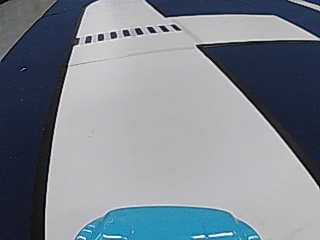CrossWalk: (75, 23, 180, 45)
